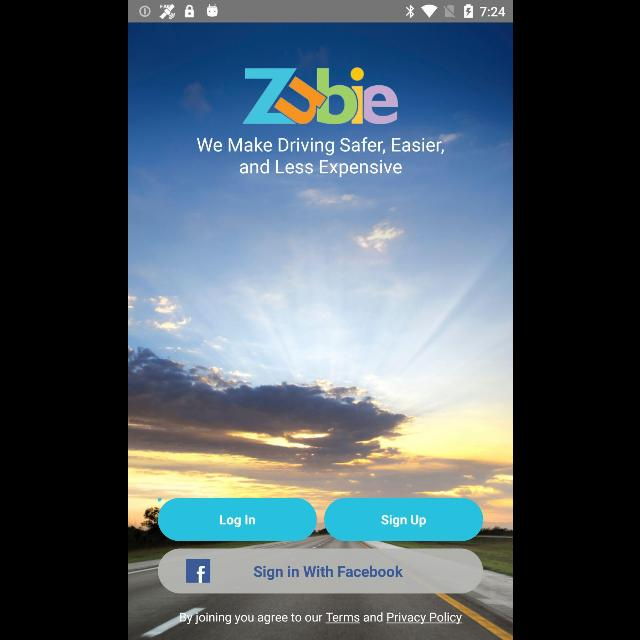backgroundimage: (128, 22, 512, 640)
image: (241, 68, 397, 124)
text: (196, 137, 444, 179), (179, 611, 463, 625)
textbutton: (157, 548, 483, 594), (323, 498, 482, 542), (158, 498, 316, 542)
uppertaskbar: (128, 1, 512, 23)
